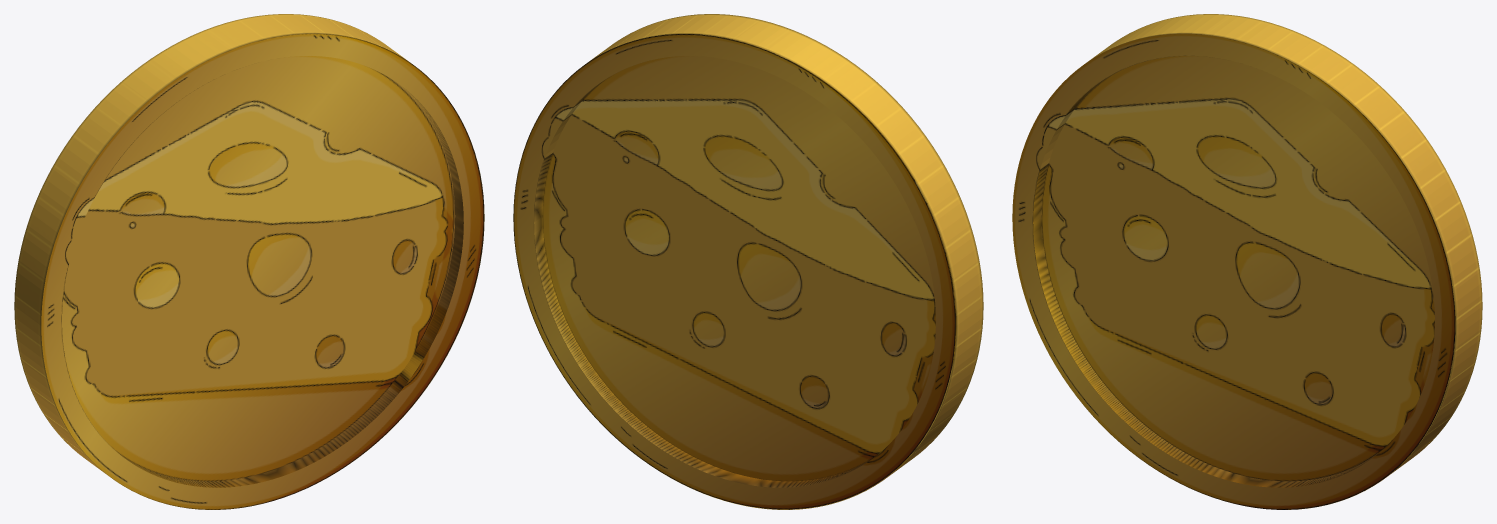
File: piece.fbx
3 renders of one model, left to right at view 1: azimuth 30°, elevation 25°; view 2: azimuth 150°, elevation 25°; view 3: azimuth 330°, elevation 25°, orthographic.
Visible parts, largest first — view 1: Circle; view 2: Circle; view 3: Circle.
Part boxes in pixels (x1=…): Circle: x1=14, y1=14, x2=484, y2=509; Circle: x1=513, y1=14, x2=983, y2=509; Circle: x1=1012, y1=14, x2=1482, y2=509.
Bounding box in the file's own units: 200 × 200 × 20.99.
1 material, 1 textured.
